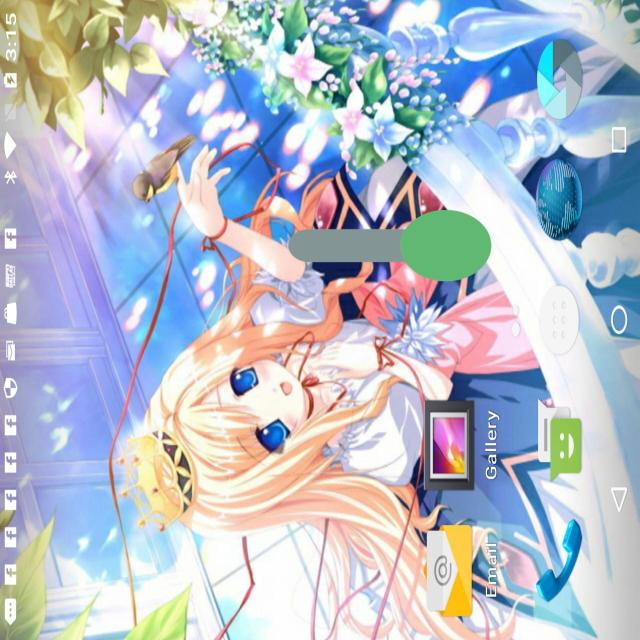social proof: (288, 166, 492, 325)
